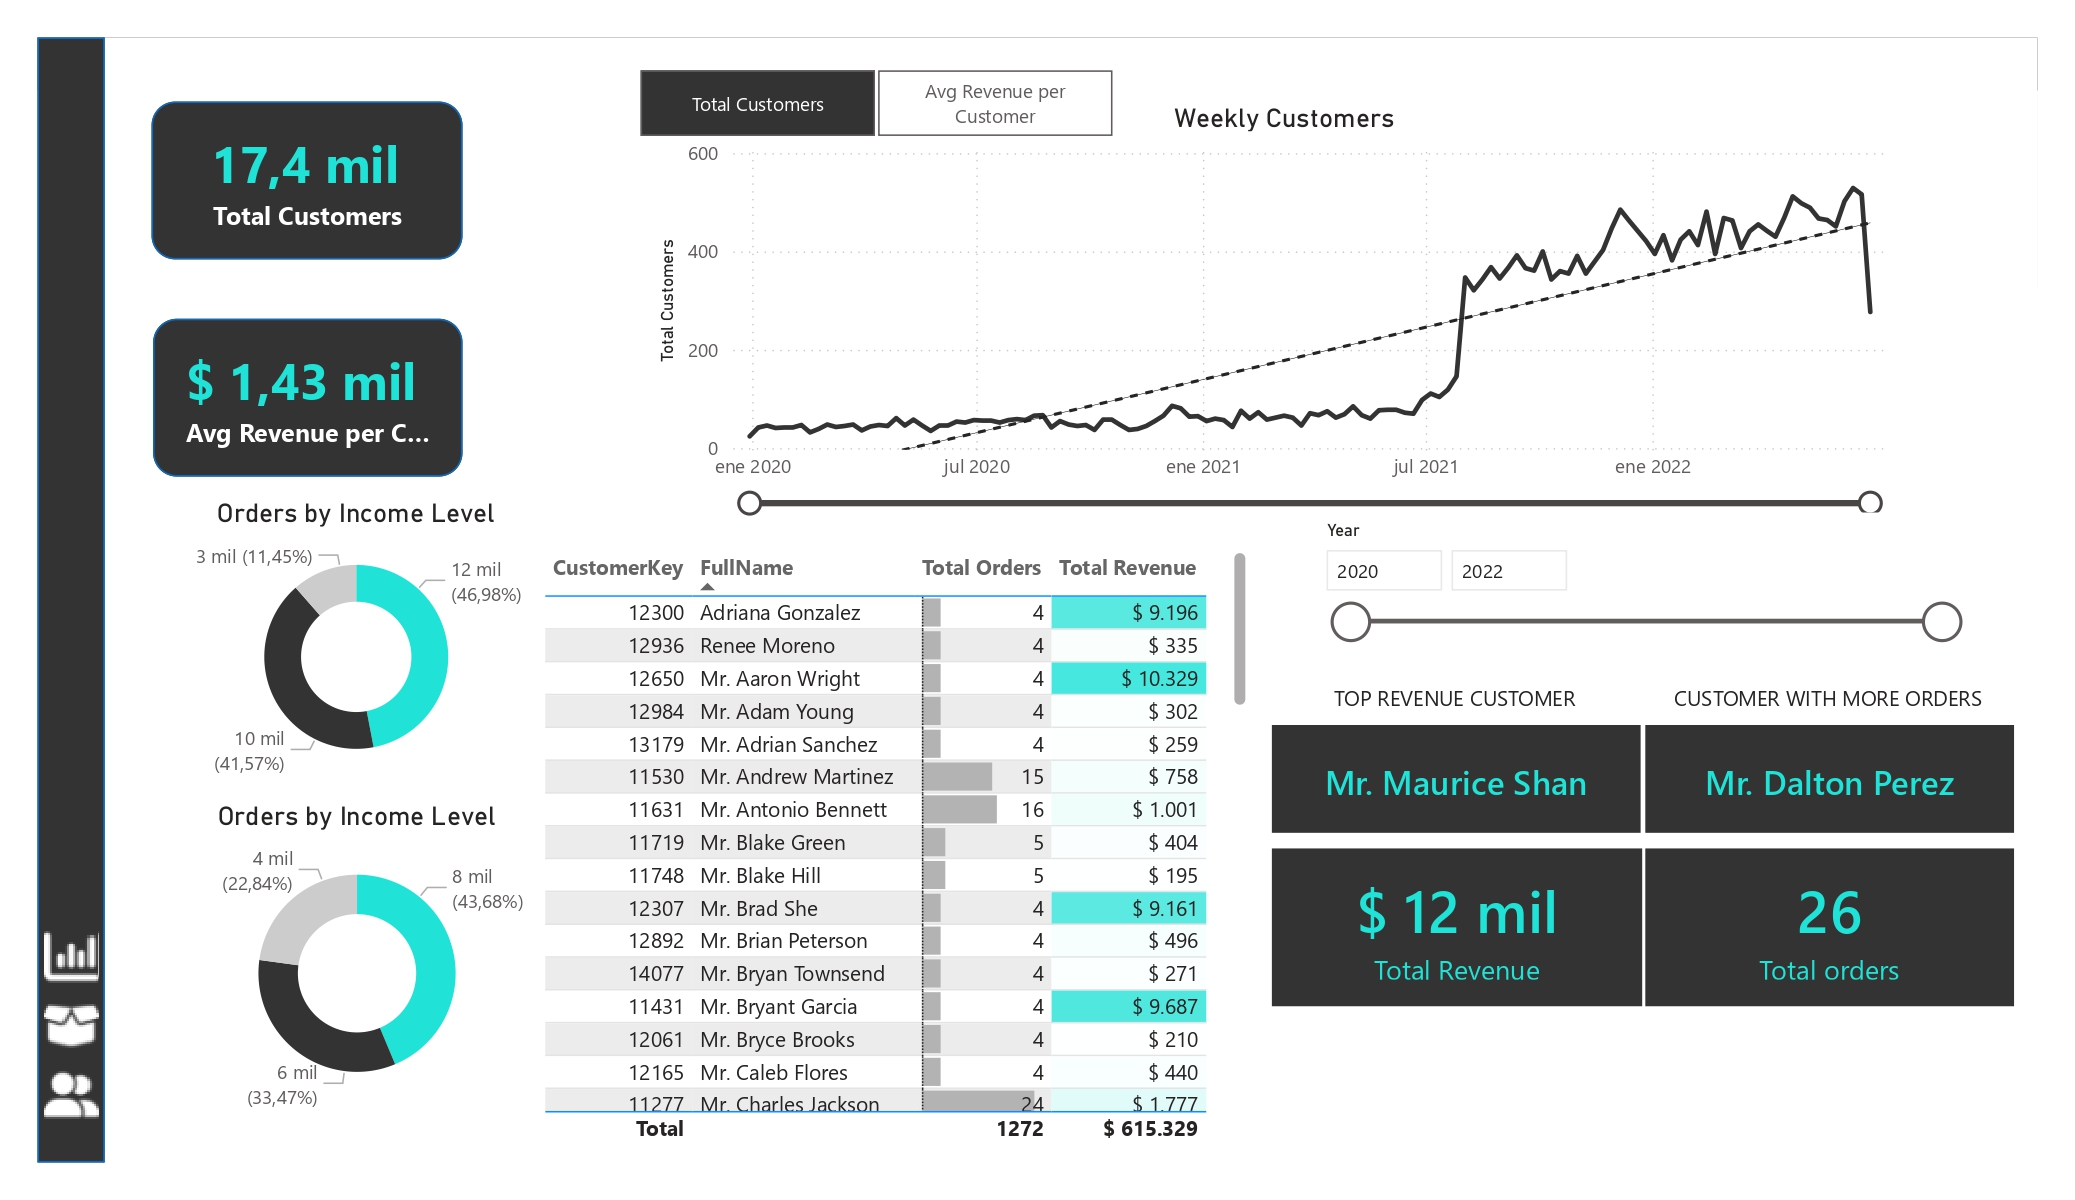

The dashboard page shown, as its layout file describes it:
{"tool":"powerbi","page":{"name":"Customer Detail","canvas":[1280,720],"ordinal":2},"visuals":[{"type":"shape","title":"Left Nav bar","box":[0,0,42.5,720],"z":0},{"type":"shape","box":[73,41,198.8,101.2],"z":1000,"group":"g2"},{"type":"group","id":"g1","title":"Grupo 1","box":[65.8,155,213.8,150],"z":1000},{"type":"actionButton","box":[0,566.2,42.8,44],"z":1000,"group":"g3"},{"type":"group","id":"g2","title":"Grupo 2","box":[65.8,16.2,213.8,150],"z":2000},{"type":"actionButton","box":[0,610.2,42.8,44],"z":2000,"group":"g3"},{"type":"lineChart","title":"Weekly Customers","fields":{"Y":["Measure Table (DAX).Total Customers"],"Category":["Calendar Lookup.Start of week.Variación.Jerarquía de fechas.Año","Calendar Lookup.Start of week.Variación.Jerarquía de fechas.Trimestre","Calendar Lookup.Start of week.Variación.Jerarquía de fechas.Mes","Calendar Lookup.Start of week.Variación.Jerarquía de fechas.Día"]},"box":[392.5,41.2,810.7,267.4],"z":3000},{"type":"shape","box":[73.4,179.8,198.8,101.2],"z":3000,"group":"g1"},{"type":"actionButton","box":[0,654.2,42.8,44],"z":3000,"group":"g3"},{"type":"cardVisual","fields":{"Data":["Measure Table (DAX).Avg Revenue per Customer"]},"box":[65.8,155,213.8,150],"z":4000,"group":"g1"},{"type":"donutChart","title":"Orders by Income Level","fields":{"Category":["Customer Lookup.Income Level"],"Y":["Measure Table (DAX).Total Orders"]},"box":[72.5,293.8,262.5,186.2],"z":4000},{"type":"cardVisual","fields":{"Data":["Measure Table (DAX).Total Cusotmers"]},"box":[65.8,16.2,213.8,150],"z":5000,"group":"g2"},{"type":"donutChart","title":"Orders by Income Level","fields":{"Y":["Measure Table (DAX).Total Orders"],"Category":["Customer Lookup.Occupation"]},"box":[80,487.5,248.8,203.8],"z":5000},{"type":"tableEx","fields":{"Values":["Customer Lookup.CustomerKey","Customer Lookup.FullName","Measure Table (DAX).Total Orders","Measure Table (DAX).Total Revenue"]},"box":[318.6,324.3,460.8,388.3],"z":6000},{"type":"cardVisual","fields":{"Data":["Min(Customer Lookup.FullName)"]},"box":[789.7,440.1,236.2,68.8],"z":7000},{"type":"textbox","box":[798.5,408.9,217.5,31.2],"z":8000},{"type":"textbox","box":[1037.5,408.9,217.5,31.2],"z":9000},{"type":"cardVisual","fields":{"Data":["Measure Table (DAX).Total Revenue"]},"box":[790.5,518.9,236.2,101.2],"z":10000},{"type":"cardVisual","fields":{"Data":["Measure Table (DAX).Top Customer Orders"]},"box":[1029.2,518.9,236.2,101.2],"z":11000},{"type":"slicer","fields":{"Values":["Calendar Lookup.Year"]},"box":[812,304.5,428,99],"z":12000},{"type":"group","id":"g3","title":"Botones","box":[0,566.2,42.8,132.1],"z":13000},{"type":"slicer","fields":{"Values":["Customer Metric Selection.Customer Metric Selection"]},"box":[359.5,13.7,352.7,54.9],"z":14000},{"type":"cardVisual","fields":{"Data":["Min(Customer Lookup.FullName)"]},"box":[1029.2,440.5,236,68.6],"z":15000}]}

Visuals, with their boxes on the page's 1280x720 design canvas (x1, y1, x2, y2). These are canvas units, not pixel positions in the 2075x1200 screenshot, which may show the page scaled, cropped or inside an application window:
"Left Nav bar" shape: bbox=(0, 0, 42, 720)
shape: bbox=(73, 41, 272, 142)
"Grupo 1" group: bbox=(66, 155, 280, 305)
actionButton: bbox=(0, 566, 43, 610)
"Grupo 2" group: bbox=(66, 16, 280, 166)
actionButton: bbox=(0, 610, 43, 654)
"Weekly Customers" lineChart: bbox=(392, 41, 1203, 309)
shape: bbox=(73, 180, 272, 281)
actionButton: bbox=(0, 654, 43, 698)
cardVisual - Measure Table (DAX).Avg Revenue per Customer: bbox=(66, 155, 280, 305)
"Orders by Income Level" donutChart: bbox=(72, 294, 335, 480)
cardVisual - Measure Table (DAX).Total Cusotmers: bbox=(66, 16, 280, 166)
"Orders by Income Level" donutChart: bbox=(80, 488, 329, 691)
tableEx - Customer Lookup.CustomerKey x Customer Lookup.FullName: bbox=(319, 324, 779, 713)
cardVisual - Min(Customer Lookup.FullName): bbox=(790, 440, 1026, 509)
textbox: bbox=(798, 409, 1016, 440)
textbox: bbox=(1038, 409, 1255, 440)
cardVisual - Measure Table (DAX).Total Revenue: bbox=(790, 519, 1027, 620)
cardVisual - Measure Table (DAX).Top Customer Orders: bbox=(1029, 519, 1265, 620)
slicer - Calendar Lookup.Year: bbox=(812, 304, 1240, 404)
"Botones" group: bbox=(0, 566, 43, 698)
slicer - Customer Metric Selection.Customer Metric Selection: bbox=(360, 14, 712, 69)
cardVisual - Min(Customer Lookup.FullName): bbox=(1029, 440, 1265, 509)
